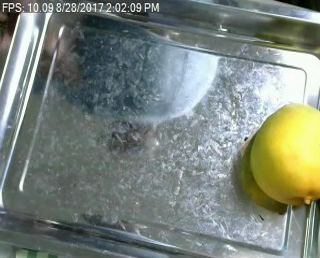Mango: (249, 103, 320, 206)
